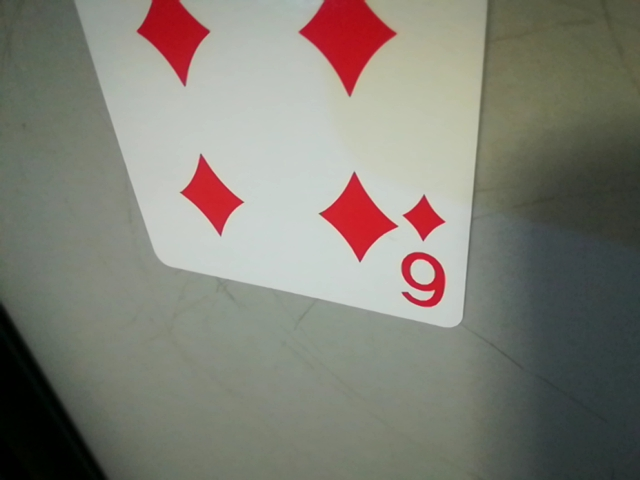fk 6: (388, 187, 462, 316)
